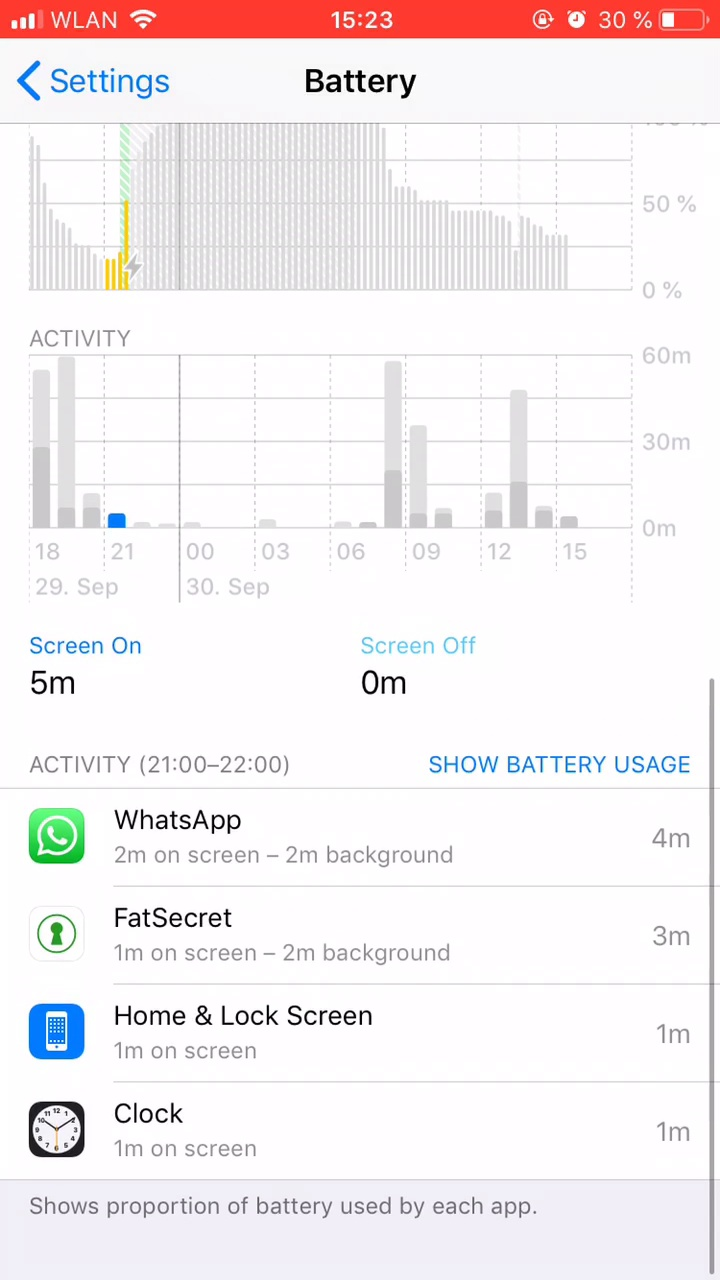activity: (21, 745, 317, 778)
app: (21, 801, 702, 869), (17, 899, 698, 967), (22, 998, 703, 1066), (25, 1093, 706, 1161)
